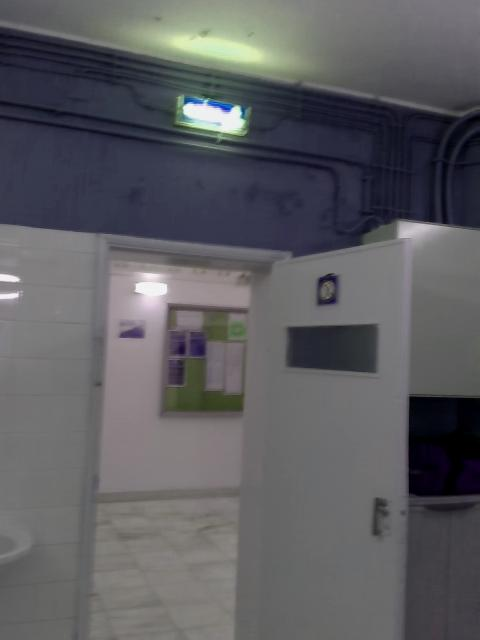open_door: (76, 233, 290, 639)
